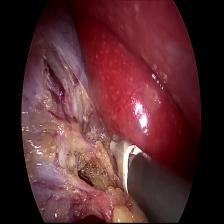Hook: (105, 133, 146, 196)
